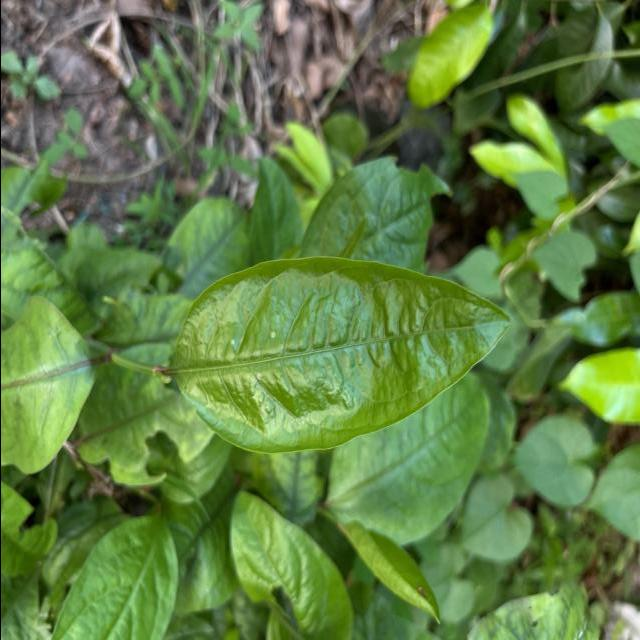Plumbago indica: (164, 250, 516, 460), (319, 360, 496, 546), (226, 486, 357, 640), (48, 510, 186, 640)
